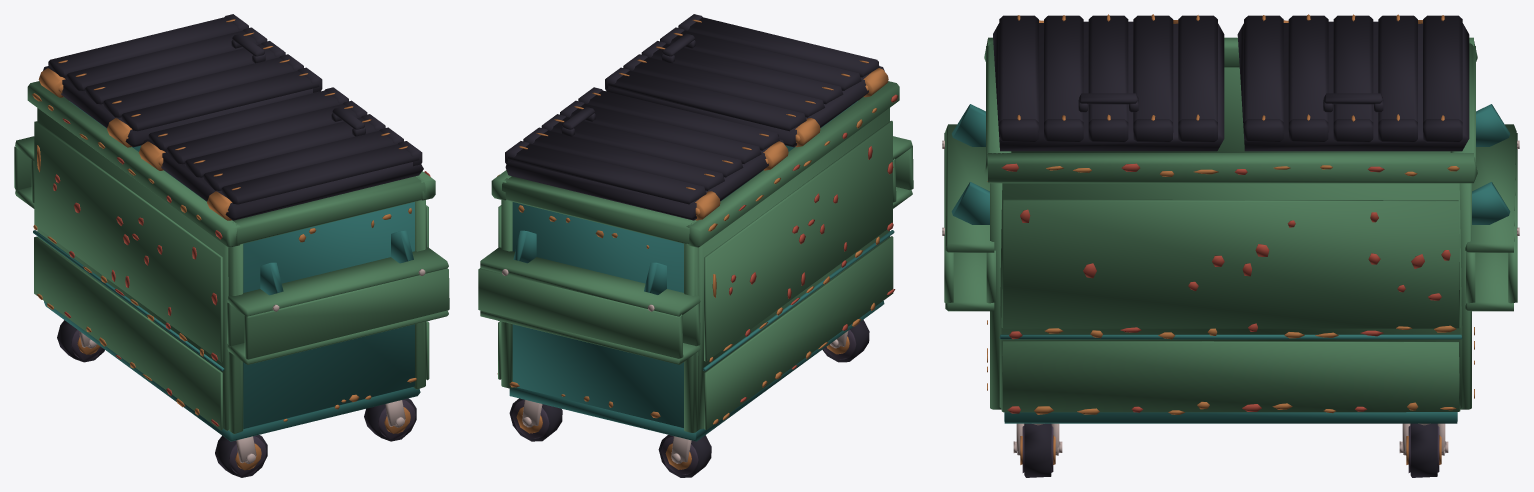
The picture shows the model from 3 angles, left to right: view 1: azimuth 30°, elevation 25°; view 2: azimuth 150°, elevation 25°; view 3: azimuth 270°, elevation 25°; orthographic projection. The views are drawn at different scales.
Parts seen in each view (by area): view 1: body, lidL, lidR, wheelRL, wheelFL, object 1, wheelRR; view 2: body, lidR, lidL, wheelRR, wheelFR, object 1, wheelRL; view 3: body, lidR, lidL, wheelFL, wheelFR, object 1.
Boxes of the visible parts, bbox=[...] form: body: bbox=[14, 81, 449, 441]; lidL: bbox=[138, 87, 423, 220]; lidR: bbox=[38, 14, 322, 147]; wheelRL: bbox=[215, 435, 267, 477]; wheelFL: bbox=[364, 398, 416, 441]; object 1: bbox=[79, 331, 405, 463]; wheelRR: bbox=[57, 320, 104, 362]; body: bbox=[478, 81, 913, 441]; lidR: bbox=[505, 87, 788, 220]; lidL: bbox=[605, 14, 888, 147]; wheelRR: bbox=[658, 435, 711, 477]; wheelFR: bbox=[509, 398, 562, 441]; object 1: bbox=[522, 331, 848, 462]; wheelRL: bbox=[822, 319, 869, 362]; body: bbox=[942, 37, 1519, 423]; lidR: bbox=[1237, 14, 1469, 151]; lidL: bbox=[993, 14, 1224, 151]; wheelFL: bbox=[1017, 423, 1058, 477]; wheelFR: bbox=[1403, 423, 1444, 477]; object 1: bbox=[1013, 423, 1448, 453].
Bounding box in the file's own units: 1.37 × 1.87 × 2.63.
